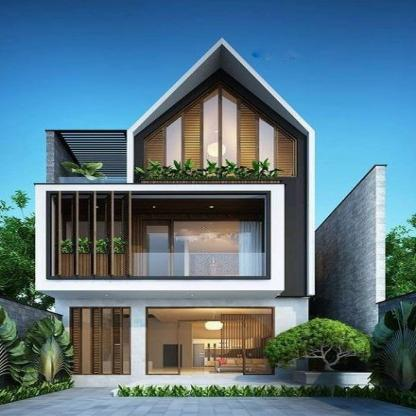Balcony: (51, 253, 270, 277), (60, 177, 128, 188)
Building Outline: (32, 36, 316, 380)
Door: (180, 321, 244, 375), (144, 221, 171, 276)
Facade: (32, 36, 317, 380)
Floor Slab: (36, 178, 307, 189), (36, 280, 307, 291)
Window: (147, 309, 271, 374), (174, 221, 265, 276), (74, 309, 129, 374), (67, 221, 120, 251), (222, 88, 238, 175), (203, 88, 219, 175), (165, 117, 182, 175), (260, 117, 274, 175)
